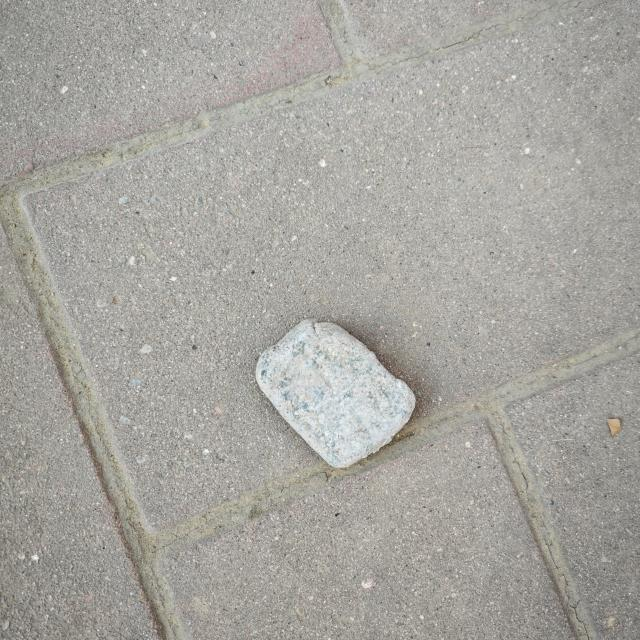-Other waste - pebble-: (257, 315, 418, 471)
